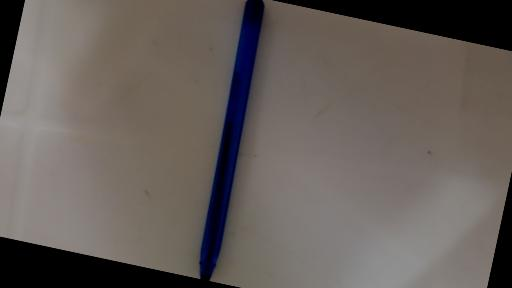pen: (188, 0, 273, 282)
